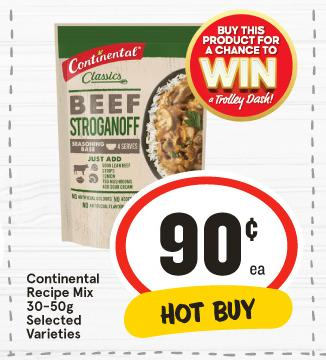description_block: (18, 269, 105, 347)
price_main: (120, 188, 290, 290)
product_image_block: (40, 12, 208, 223)
promo_text_block: (116, 289, 299, 334)
